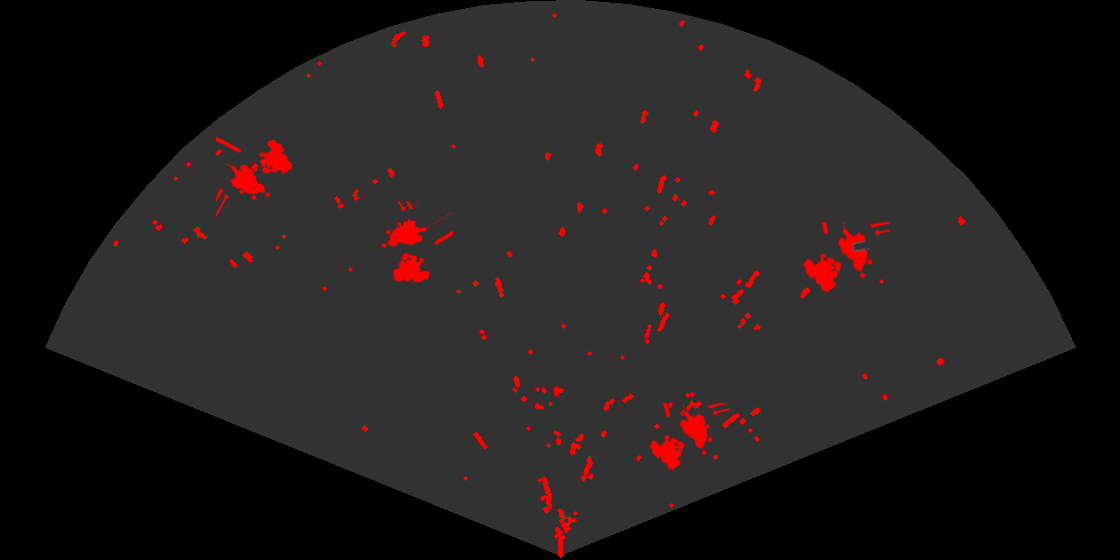cage: (216, 135, 294, 218), (801, 222, 890, 294), (379, 201, 453, 284), (648, 403, 730, 472)
